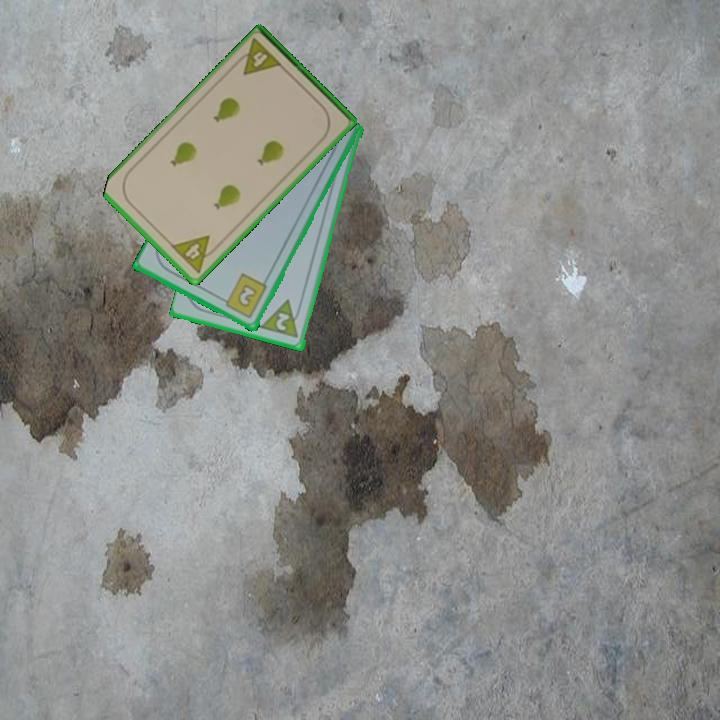2b: (217, 271, 270, 322)
2p: (272, 309, 293, 334)
4p: (167, 232, 222, 276), (231, 35, 285, 78)
